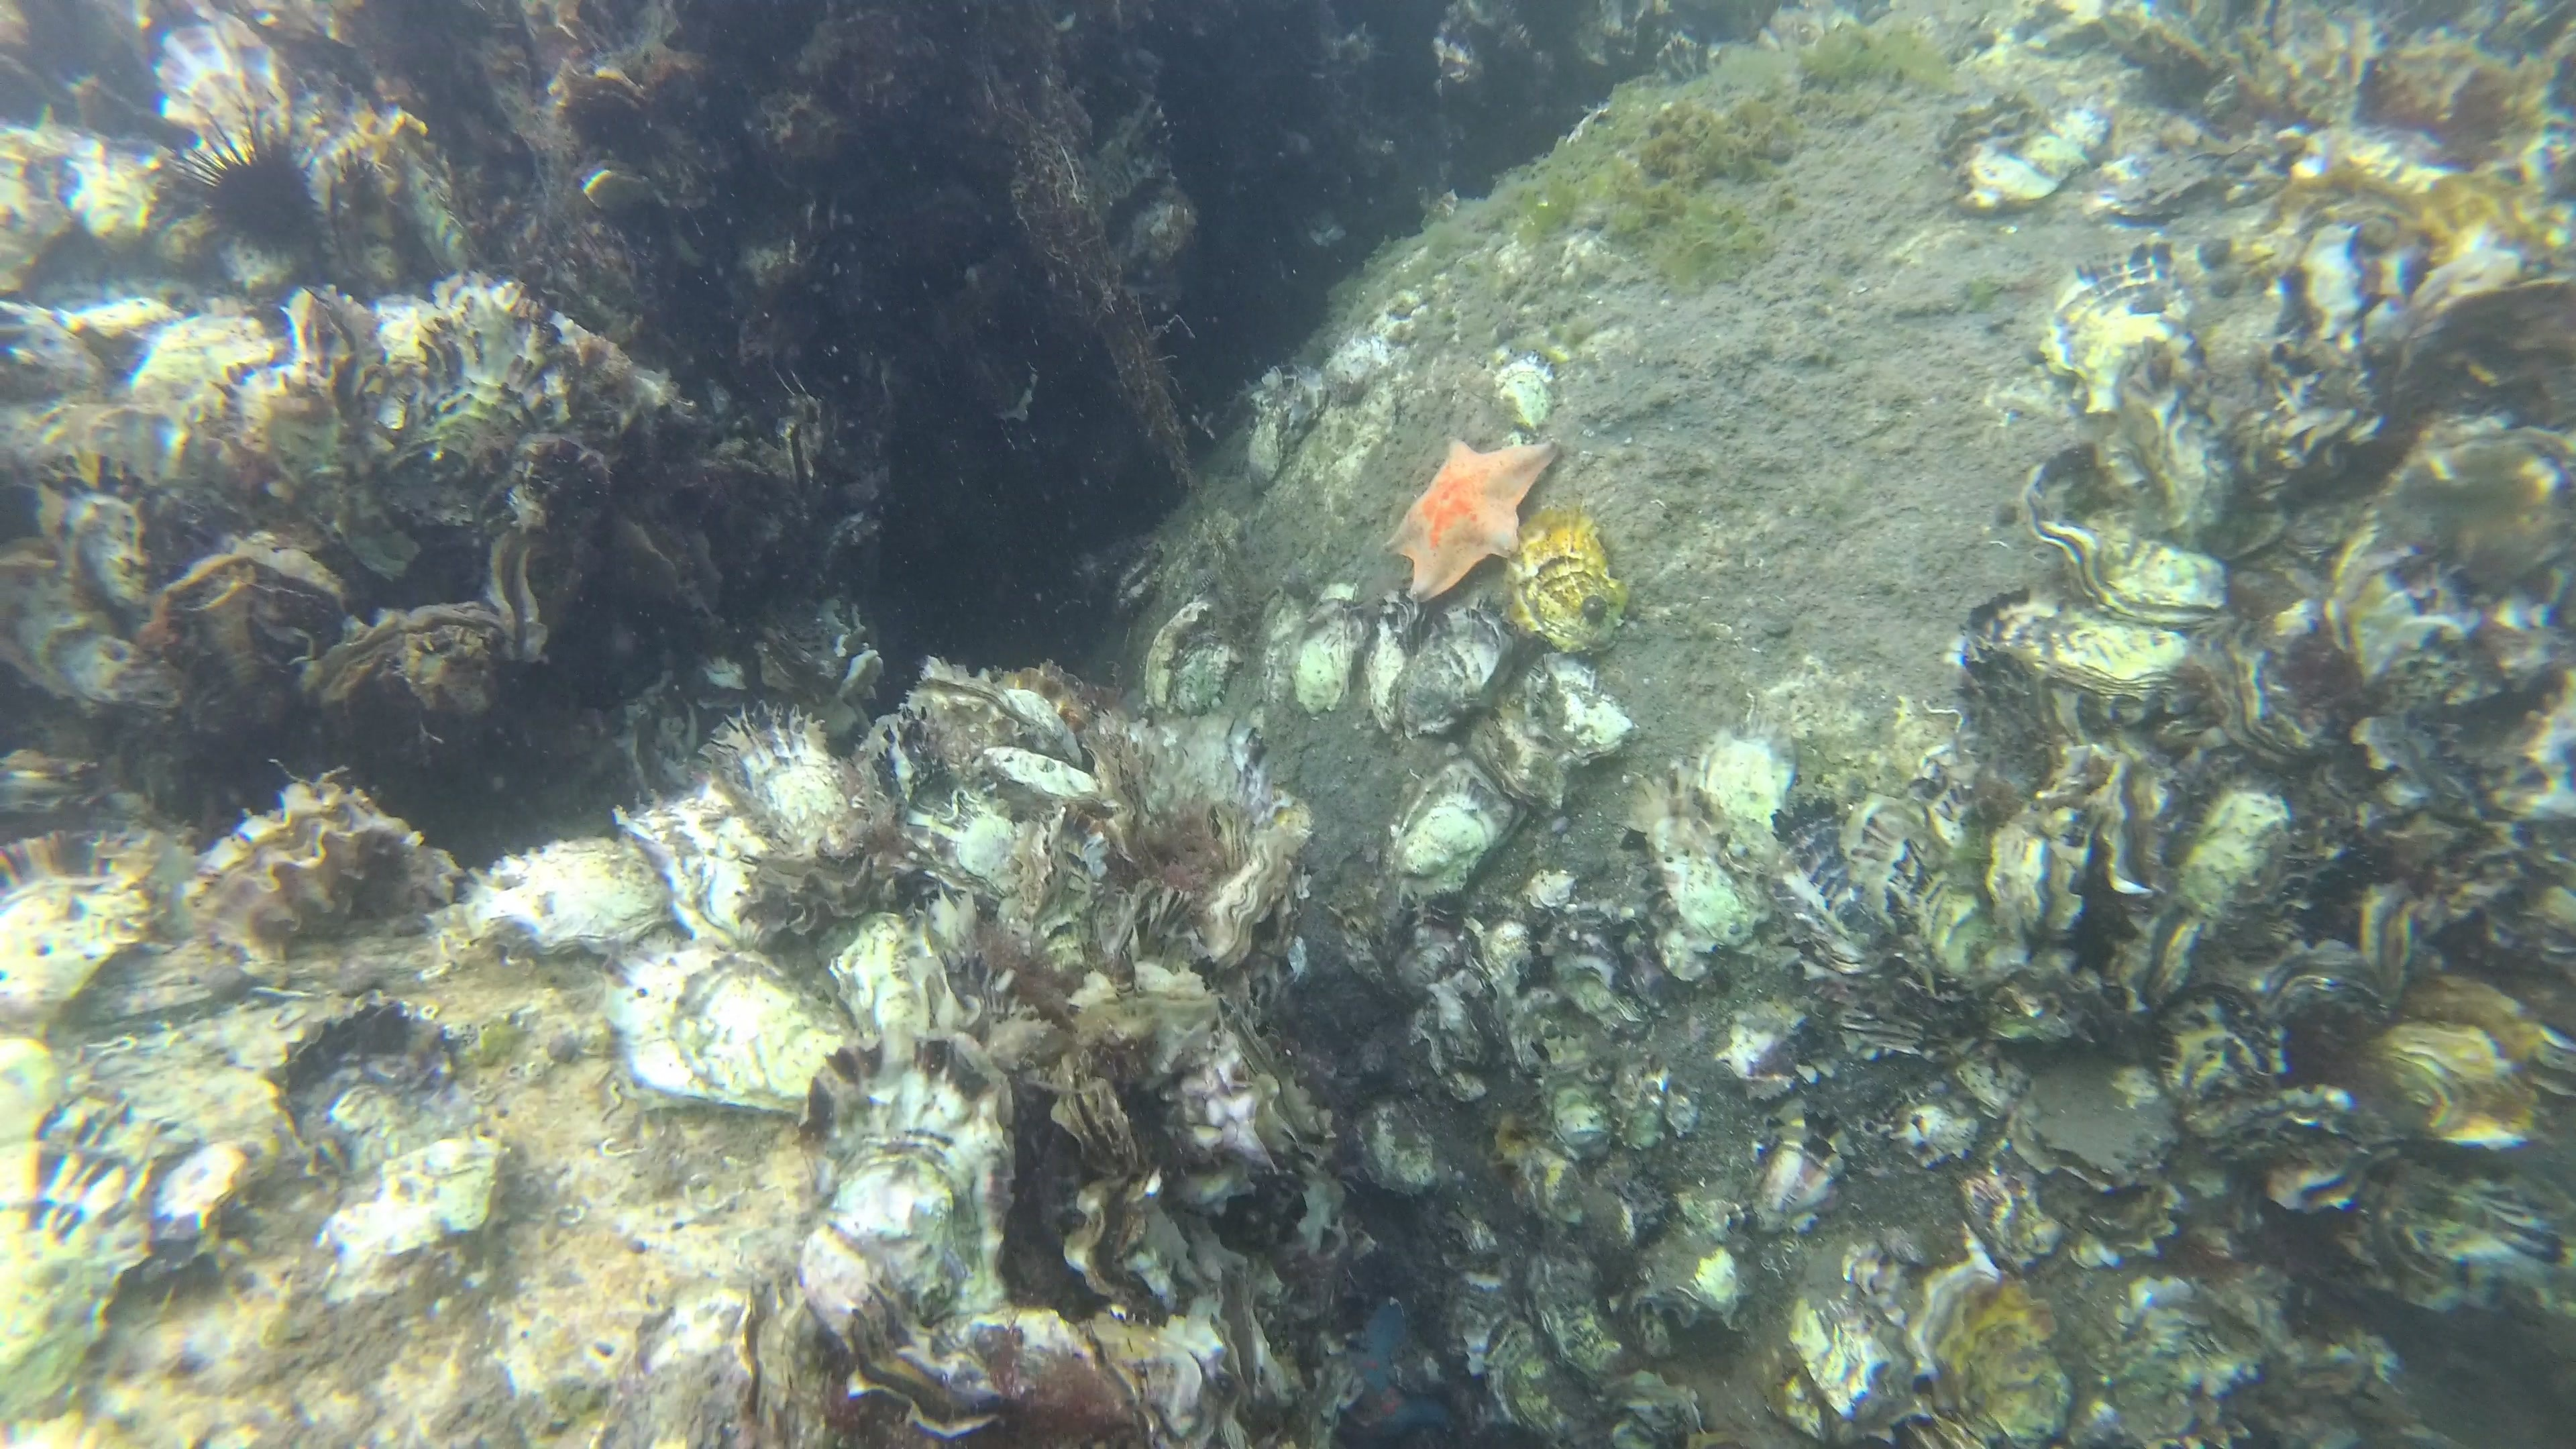echinus: (182, 117, 331, 257)
starfish: (1384, 421, 1555, 610)
